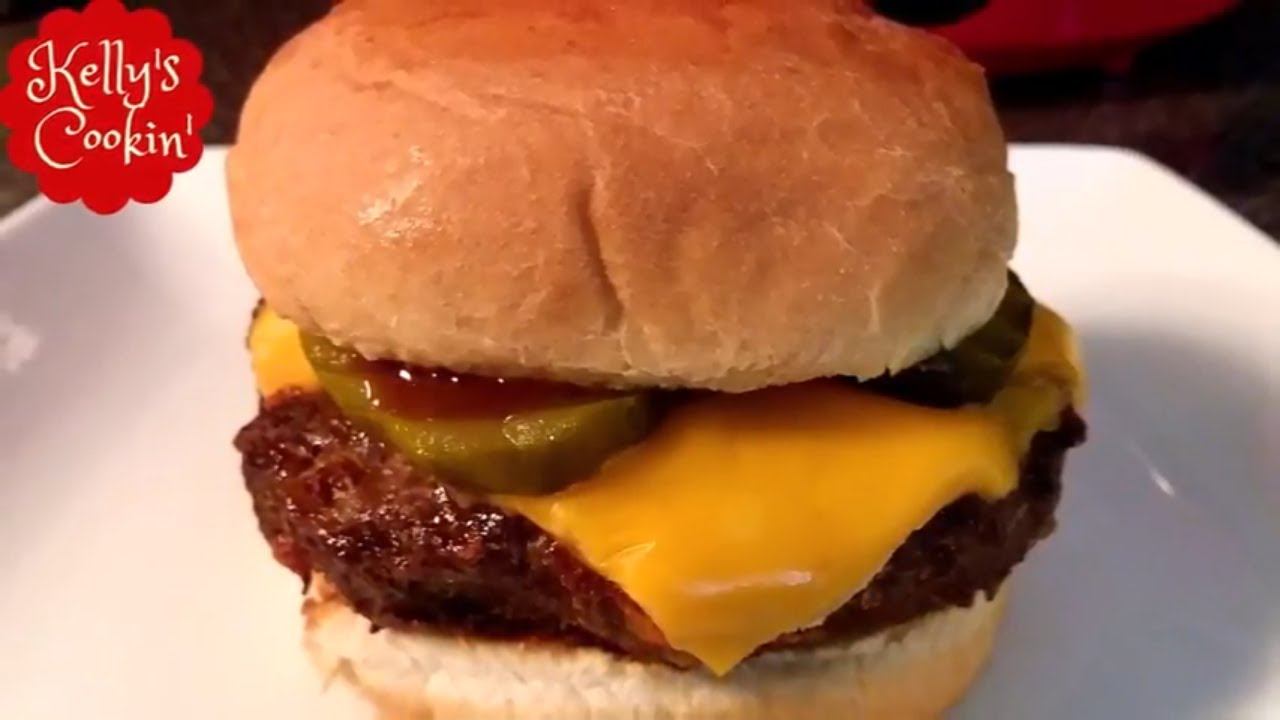hamburger_buns: (208, 3, 1080, 392)
